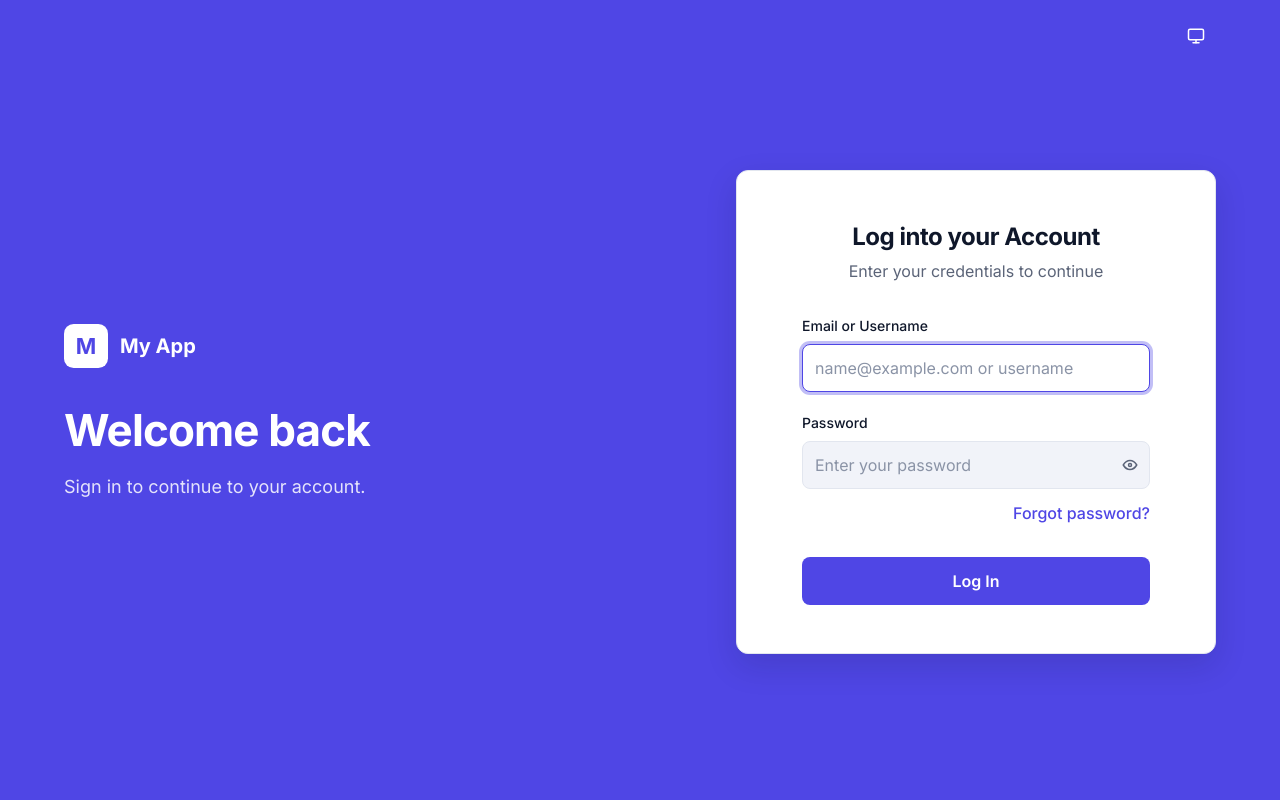
login › empty fields are reported without asking the server
This screenshot has width=1280, height=800.
Expected: the heading "Log into your Account" is shown, [852,222,1100,251]
Click the button "Log In".
click(976, 581)  # box [802,557,1150,605]
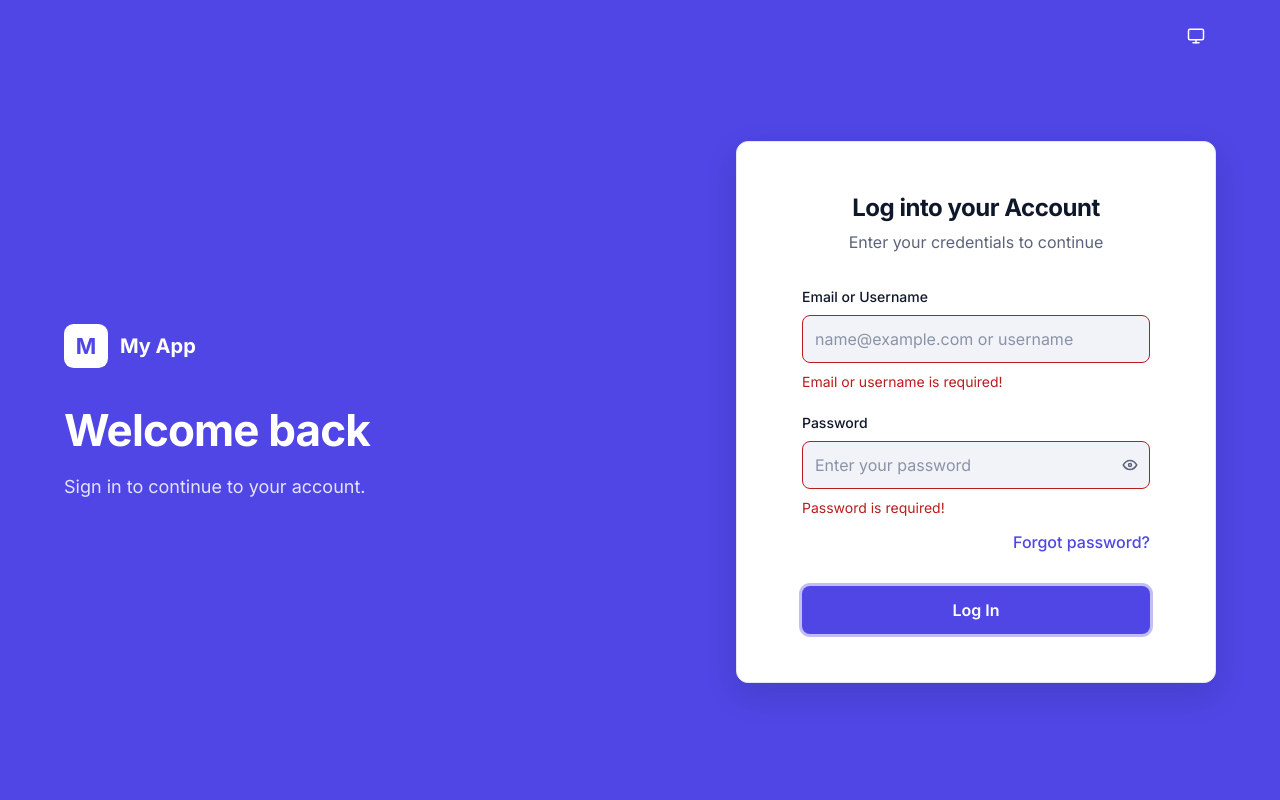
Now the text "Email or username is required!" is shown, box [802,373,1003,390]
Now the text "Password is required!" is shown, box [802,499,945,516]
